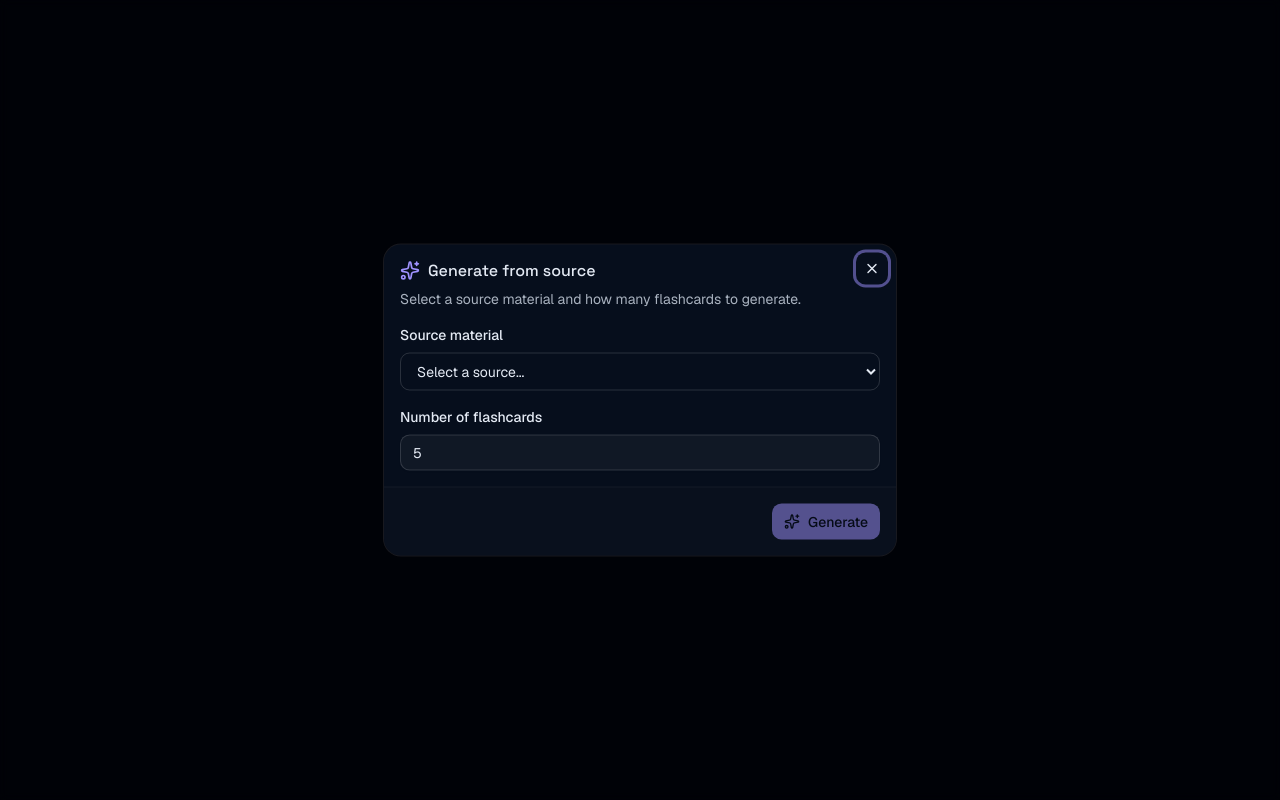
it: GenerateFromSourceDialog › blocks generation with a settings pointer when no provider is configured
Select "Lecture notes (text)" in the dropdown labelled "Source material" at x=640, y=372, box [400,352,880,390]
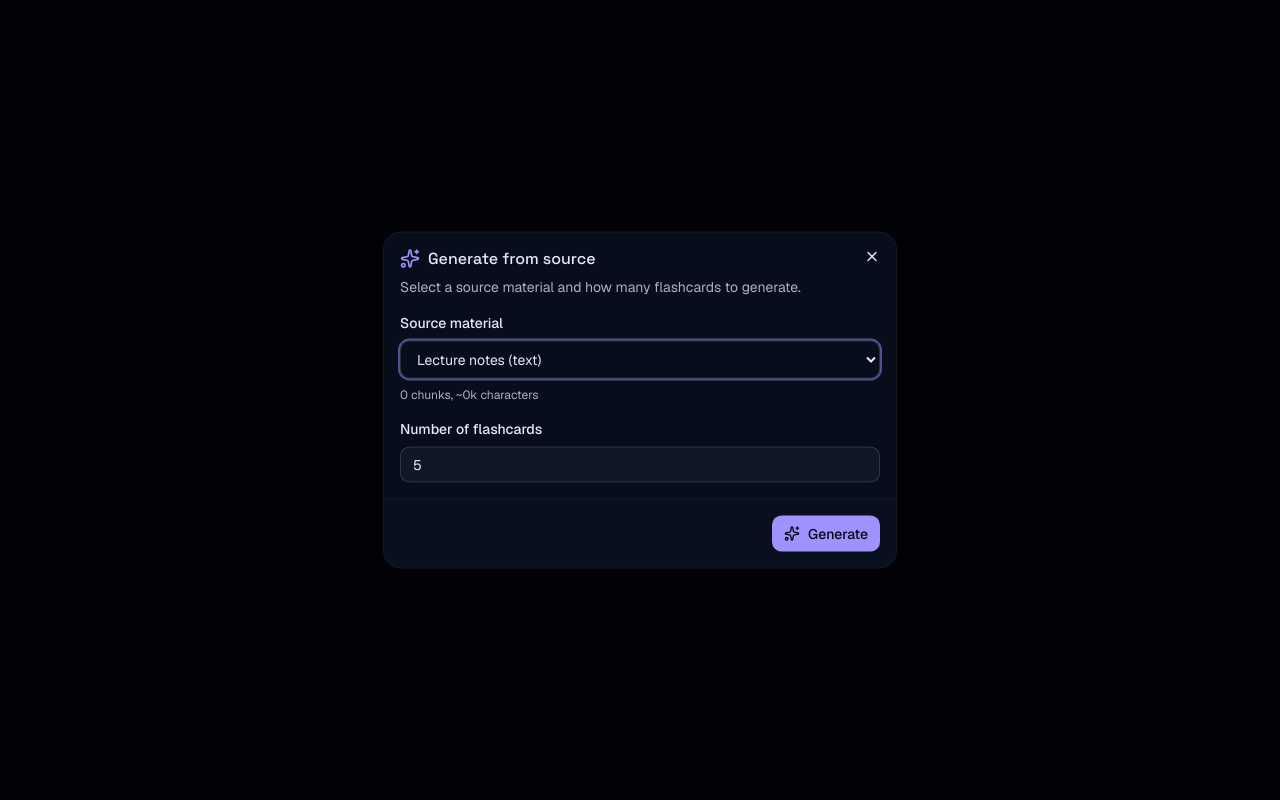
Click the button "Generate" at x=826, y=534, box [772,516,880,552]
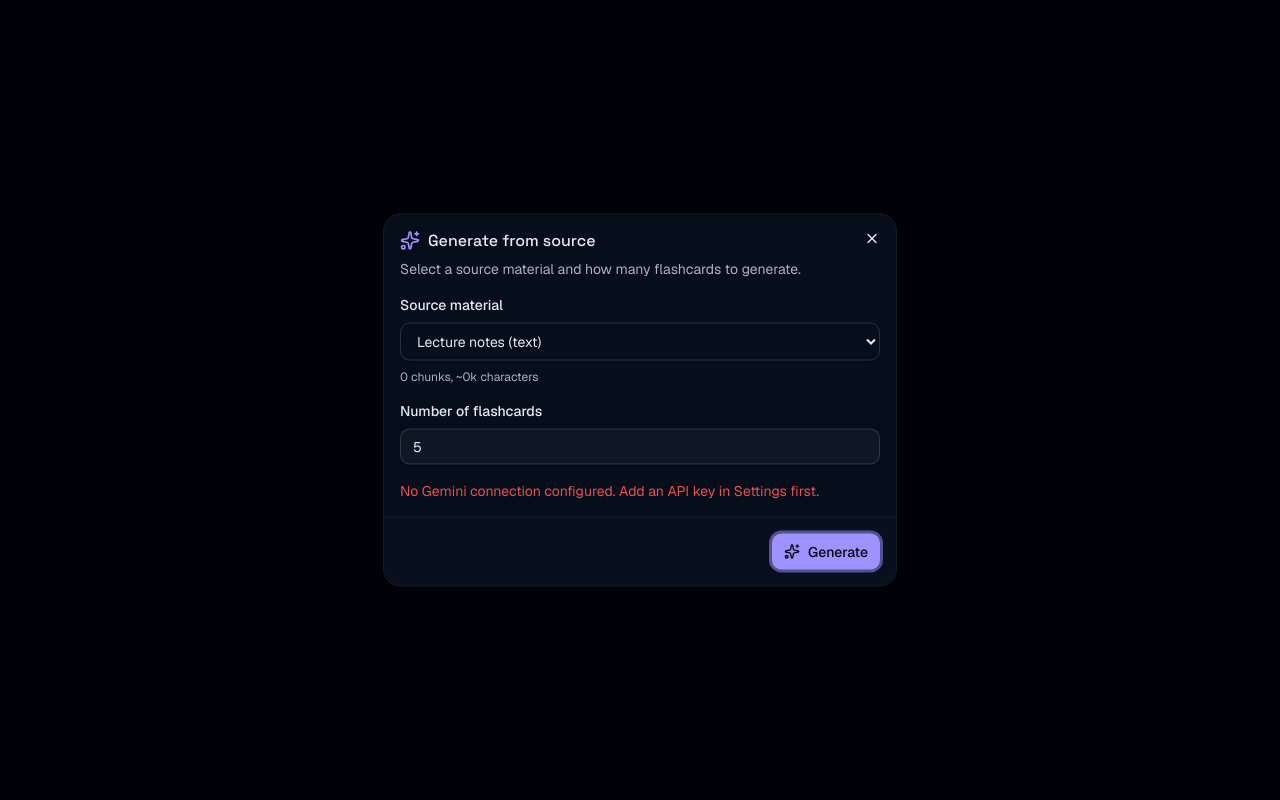
Check: the text "No Gemini connection configured. Add an API key in Settings first." is shown, box [400,480,880,500]
